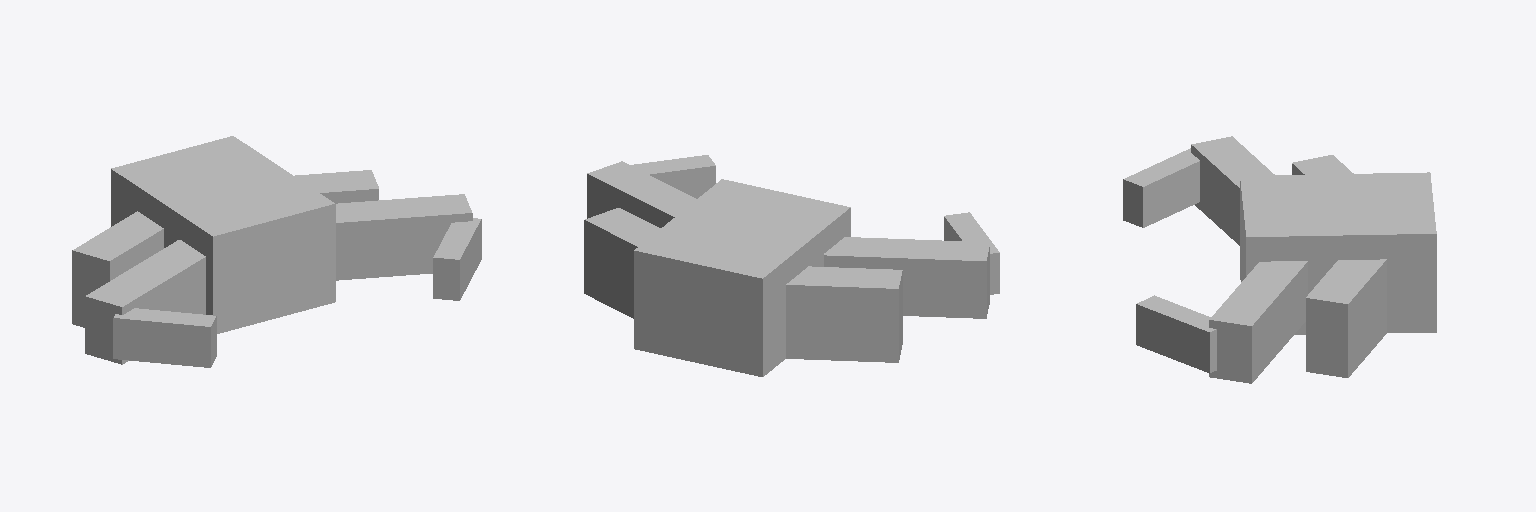
File: custom_model.obj
The picture shows the model from 3 angles: view 1: azimuth 30°, elevation 25°; view 2: azimuth 150°, elevation 25°; view 3: azimuth 270°, elevation 25°; orthographic projection.
Visible parts, largest first — view 1: cube; view 2: cube; view 3: cube.
Boxes of the visible parts, <box> form: cube: <box>72,136,481,367</box>; cube: <box>584,155,999,376</box>; cube: <box>1123,136,1436,383</box>.
Size of the model in its own units: 3.1 by 0.75 by 2.16.